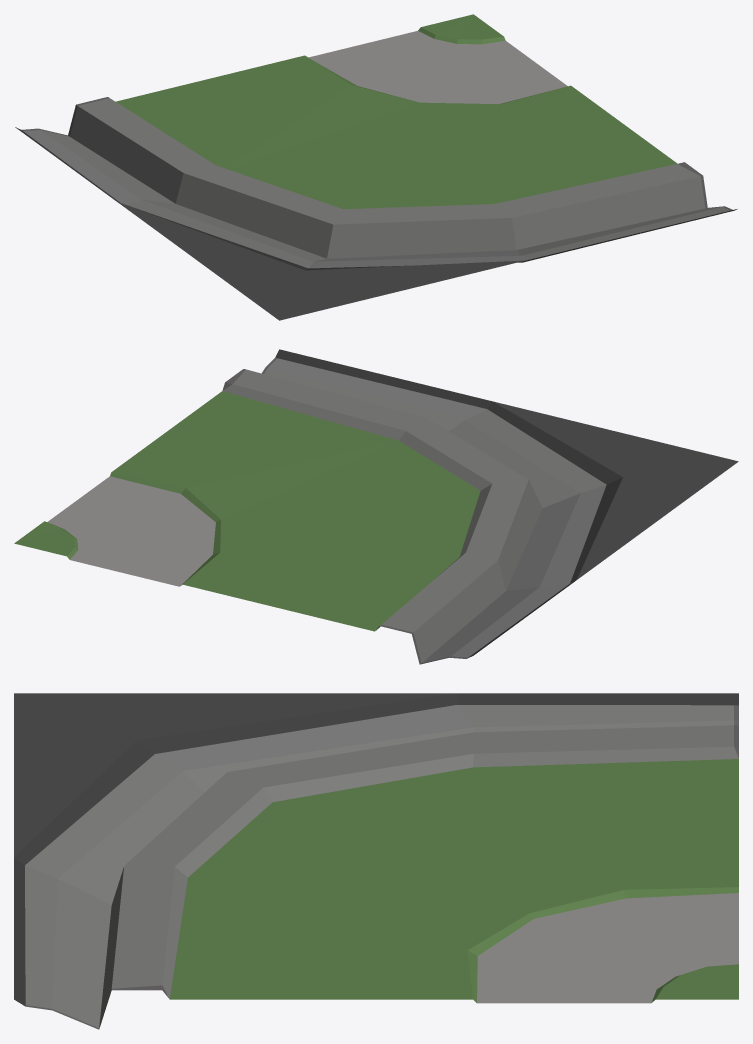
The model's file is SM_Env_Sidewalk_Corner_01.fbx.
3 views of the same model, one above another, from view 1: azimuth 30°, elevation 25°; view 2: azimuth 150°, elevation 25°; view 3: azimuth 270°, elevation 25° (orthographic). The views are drawn at different scales.
Visible parts, largest first — view 1: SM_Env_Sidewalk_Corner_01; view 2: SM_Env_Sidewalk_Corner_01; view 3: SM_Env_Sidewalk_Corner_01.
Part boxes in pixels (x1,y1,x2,y2): SM_Env_Sidewalk_Corner_01: (15,14,737,320); SM_Env_Sidewalk_Corner_01: (14,349,738,664); SM_Env_Sidewalk_Corner_01: (14,693,738,1029).
Size of the model in its own units: 500 by 30 by 500.
